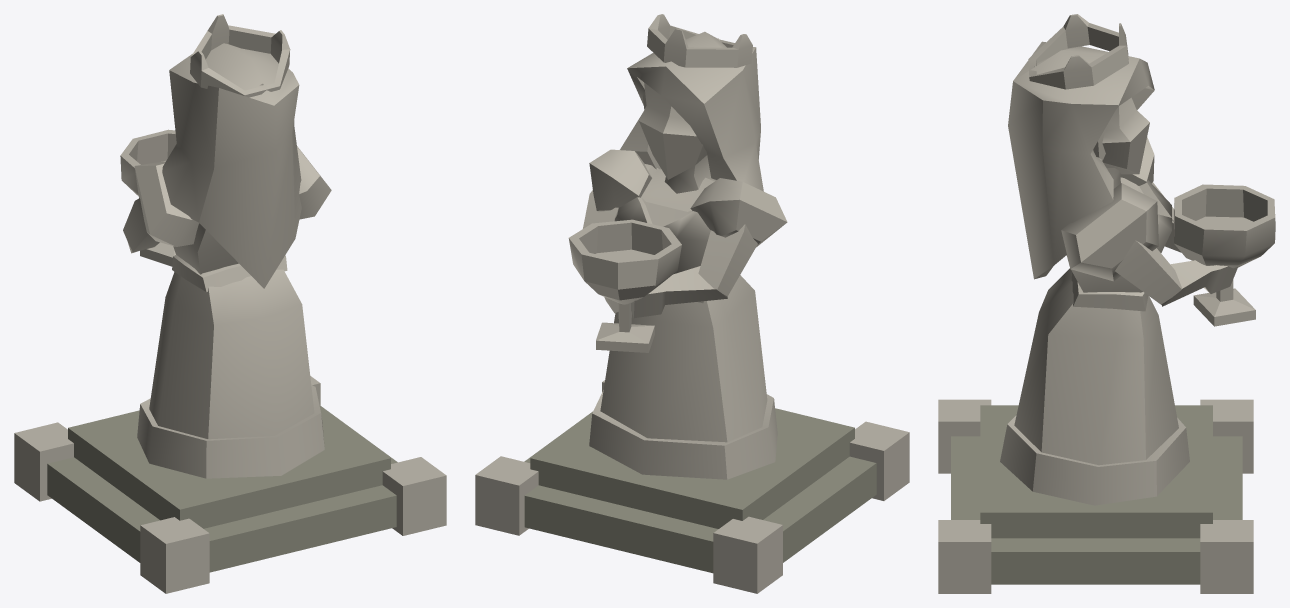
The model's file is statue_princess.fbx.
3 views of the same model, side by side, from view 1: azimuth 30°, elevation 25°; view 2: azimuth 150°, elevation 25°; view 3: azimuth 270°, elevation 25° (orthographic). The views are drawn at different scales.
Parts seen in each view (by area): view 1: polySurface1266; view 2: polySurface1266; view 3: polySurface1266.
Boxes of the visible parts, left/top/right/bottom form: polySurface1266: left=14, top=14, right=446, bottom=593; polySurface1266: left=475, top=14, right=909, bottom=593; polySurface1266: left=938, top=14, right=1275, bottom=593.
Bounding box in the file's own units: 81.31 × 133 × 81.42.
Materials: 1 (1 with a texture image).
